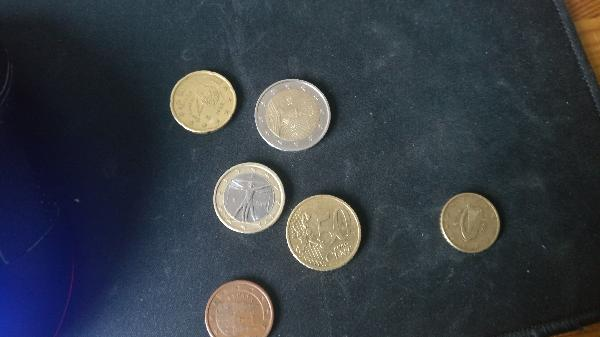Fifty Cent: (284, 193, 360, 271)
Five Cent: (203, 279, 274, 337)
One Euro: (212, 162, 283, 232)
Ten Cent: (439, 188, 503, 256)
Twenty Cent: (168, 69, 235, 134)
Two Euro: (252, 79, 333, 152)
